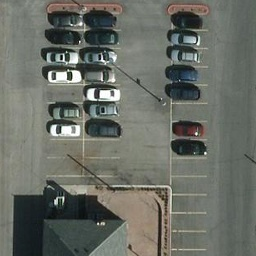car: (85, 10, 121, 28), (171, 9, 207, 27), (168, 26, 204, 44), (167, 45, 203, 63), (165, 64, 201, 82), (165, 82, 201, 100), (169, 118, 205, 136), (170, 139, 206, 157), (45, 121, 81, 139), (86, 119, 122, 137), (43, 100, 79, 118), (85, 99, 121, 117), (83, 82, 119, 100), (47, 66, 83, 84), (83, 65, 119, 83), (42, 48, 78, 66), (79, 47, 115, 65), (86, 25, 122, 43), (45, 29, 81, 47), (48, 13, 84, 30)
